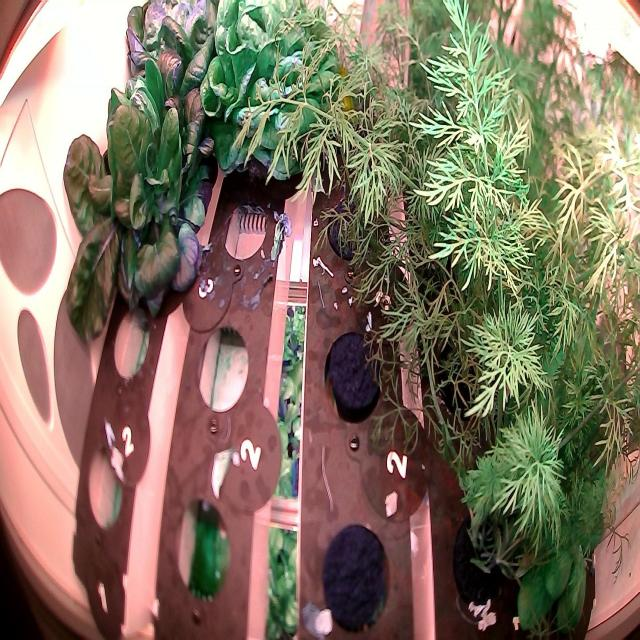Ready: (56, 66, 218, 350), (201, 0, 337, 192), (115, 0, 231, 186)
empty_pod: (166, 478, 237, 612), (191, 309, 252, 419), (79, 438, 129, 539), (214, 189, 271, 268), (106, 302, 152, 398)
pod: (316, 517, 394, 637), (324, 316, 392, 427), (324, 194, 374, 278)
